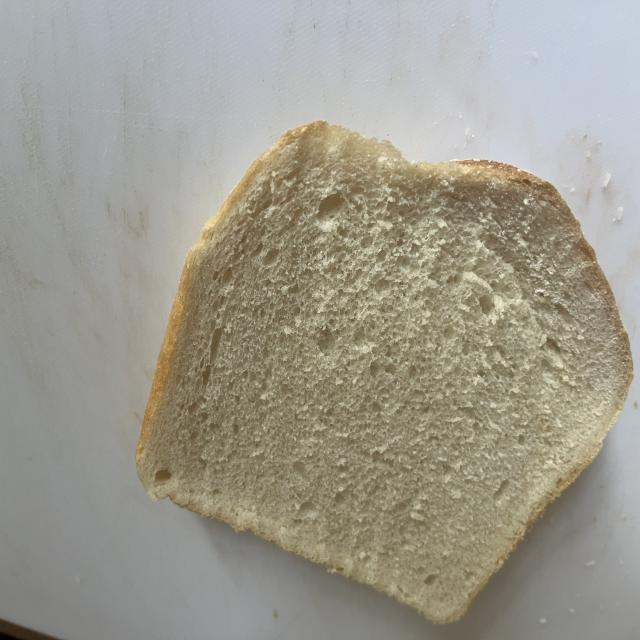sliced_bread: (136, 121, 632, 622)
